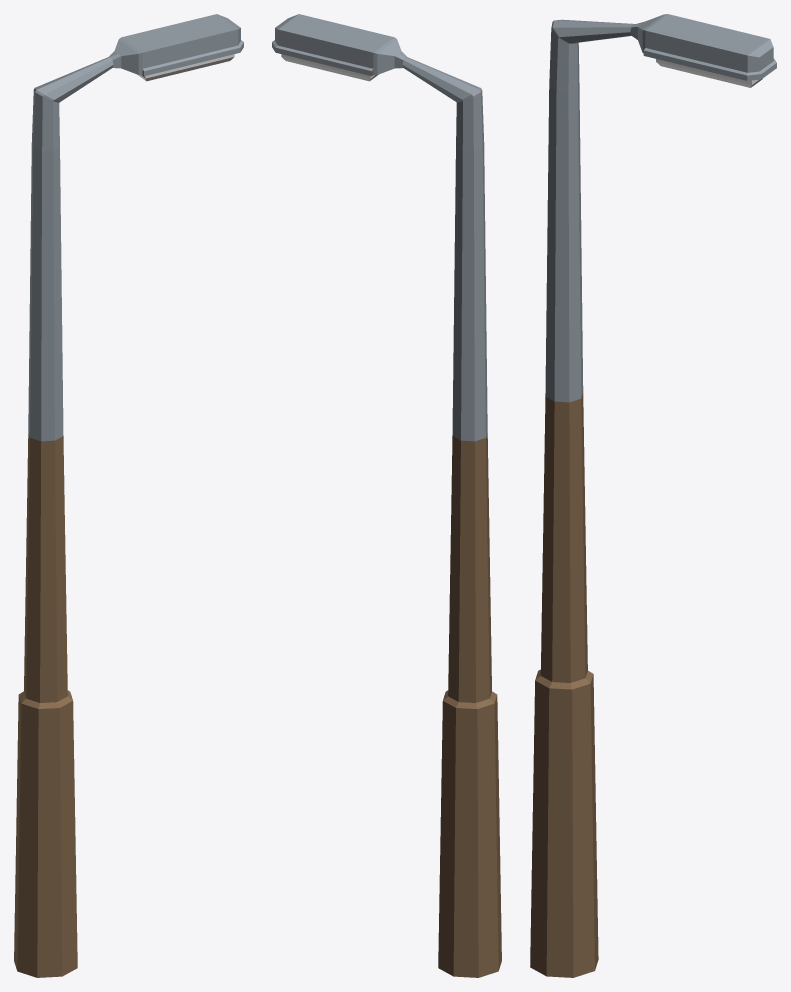
Rendered from SM_PRP_Lampost_A_01.fbx.
3 renders of one model, left to right at view 1: azimuth 30°, elevation 25°; view 2: azimuth 150°, elevation 25°; view 3: azimuth 330°, elevation 25°, orthographic. The views are drawn at different scales.
Visible parts, largest first — view 1: SM_PRP_Lampost_A_01, Light BUlb; view 2: SM_PRP_Lampost_A_01, Light BUlb; view 3: SM_PRP_Lampost_A_01, Light BUlb.
Boxes of the visible parts, box(x1,y1,x2,y2) form: SM_PRP_Lampost_A_01: box(14, 14, 243, 977); Light BUlb: box(137, 54, 234, 81); SM_PRP_Lampost_A_01: box(272, 14, 501, 977); Light BUlb: box(281, 54, 378, 81); SM_PRP_Lampost_A_01: box(530, 14, 776, 977); Light BUlb: box(656, 59, 762, 87).
Bounding box in the file's own units: 33.24 × 128 × 499.
